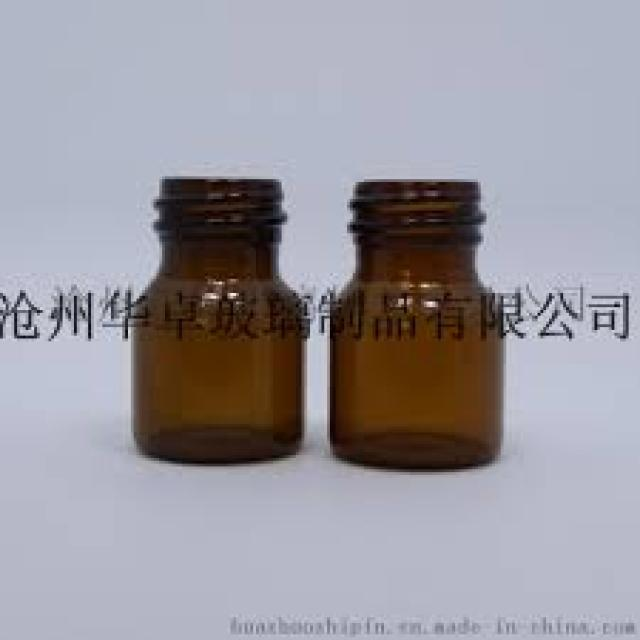glass: (128, 174, 302, 464), (327, 177, 498, 467)
